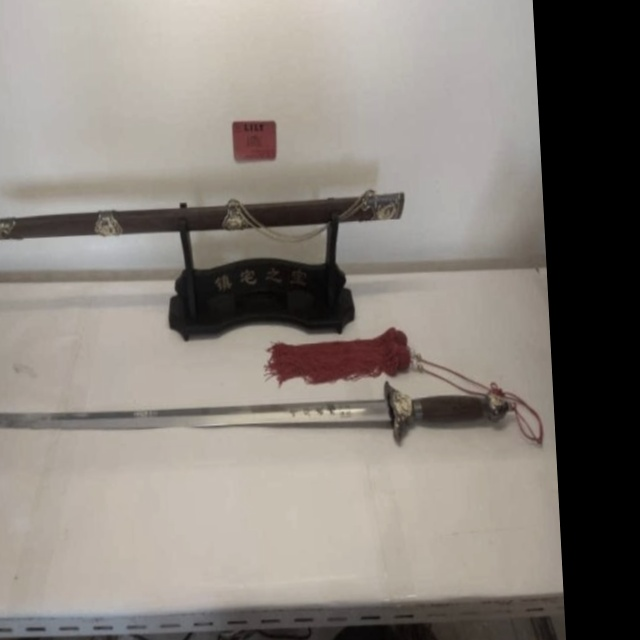Sharp-Object: (0, 369, 529, 475)
